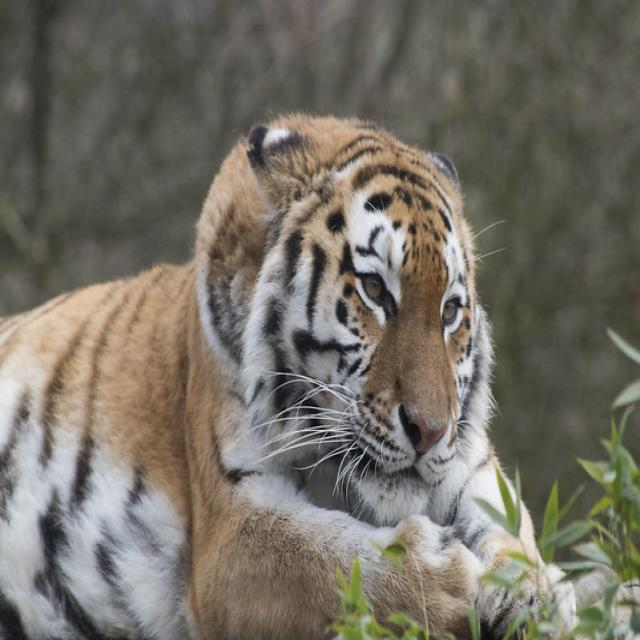Tiger: (29, 103, 517, 629)
